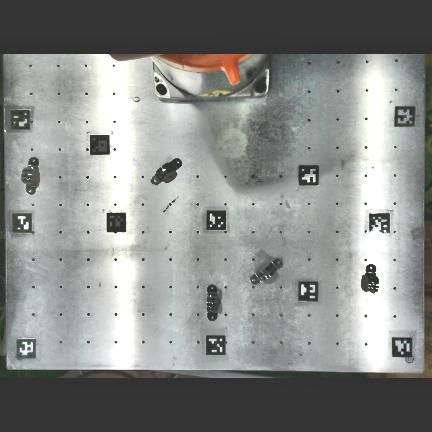clamp: (151, 158, 183, 185), (251, 258, 283, 284), (22, 157, 39, 194), (365, 264, 379, 300), (206, 285, 217, 321)
marker: (394, 107, 415, 128), (12, 213, 32, 234), (370, 214, 390, 234), (299, 166, 319, 186), (298, 282, 318, 302), (206, 337, 226, 357), (10, 111, 29, 132), (207, 210, 226, 231), (392, 338, 412, 357), (17, 339, 36, 359), (107, 213, 126, 232), (90, 136, 109, 154)
